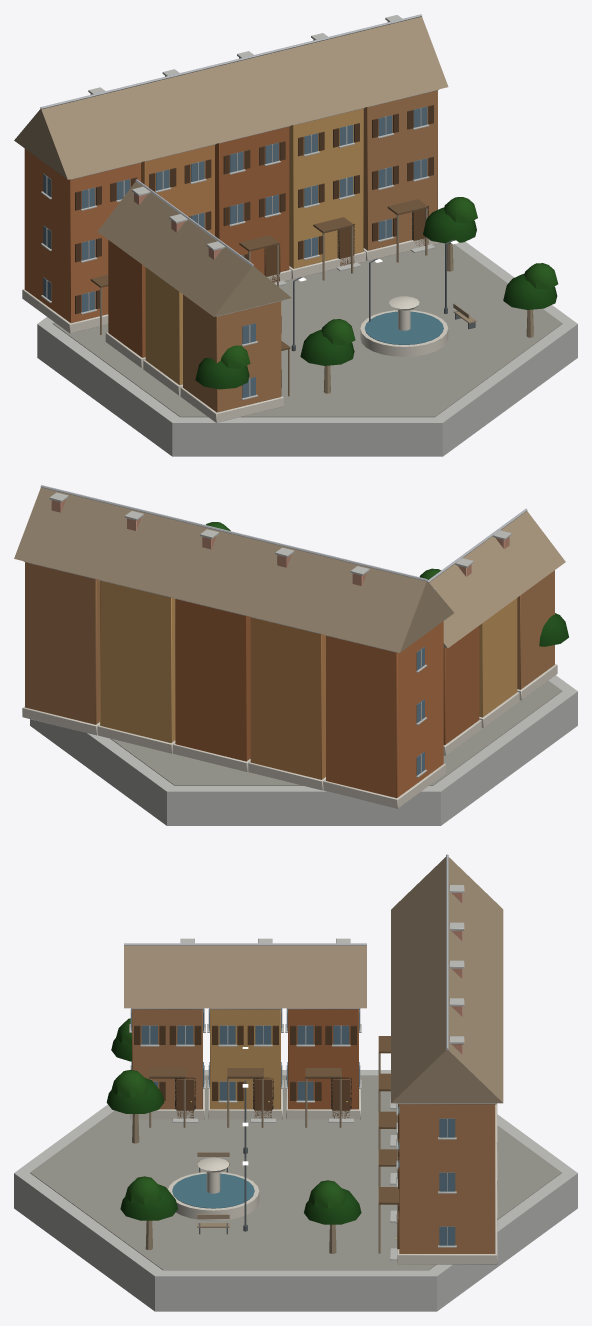
The model's file is residential_africa.glb.
3 views of the same model, one above another, from view 1: azimuth 30°, elevation 25°; view 2: azimuth 150°, elevation 25°; view 3: azimuth 270°, elevation 25° (orthographic). The views are drawn at different scales.
Visible parts, largest first — view 1: wood, plaster, pavers, wall_concrete, glass, leaf, stone, metal, steel_dark; view 2: plaster, wood, wall_concrete, stone, pavers, metal, leaf, brick, glass; view 3: wood, pavers, wall_concrete, plaster, leaf, glass, stone, metal.
Boxes of the visible parts, left/top/right/bottom form: wood: left=14, top=16, right=533, bottom=396; plaster: left=24, top=90, right=437, bottom=412; pavers: left=52, top=242, right=562, bottom=417; wall_concrete: left=37, top=15, right=577, bottom=456; glass: left=43, top=106, right=443, bottom=397; leaf: left=195, top=197, right=558, bottom=389; stone: left=22, top=238, right=448, bottom=422; metal: left=40, top=14, right=422, bottom=266; steel_dark: left=291, top=239, right=475, bottom=357; plaster: left=25, top=562, right=554, bottom=798; wood: left=14, top=487, right=565, bottom=652; wall_concrete: left=23, top=492, right=577, bottom=825; stone: left=22, top=664, right=557, bottom=808; pavers: left=111, top=680, right=562, bottom=785; metal: left=40, top=485, right=527, bottom=582; leaf: left=206, top=522, right=568, bottom=646; brick: left=51, top=499, right=509, bottom=585; glass: left=416, top=647, right=424, bottom=775; wood: left=124, top=857, right=503, bottom=1253; pavers: left=30, top=1075, right=561, bottom=1270; wall_concrete: left=14, top=885, right=577, bottom=1311; plaster: left=132, top=1009, right=495, bottom=1253; leaf: left=106, top=1018, right=361, bottom=1224; glass: left=131, top=1009, right=455, bottom=1245; stone: left=130, top=1076, right=497, bottom=1264; metal: left=124, top=854, right=448, bottom=1050.
Size of the model in its own units: 21.3 by 12.29 by 24.6.
